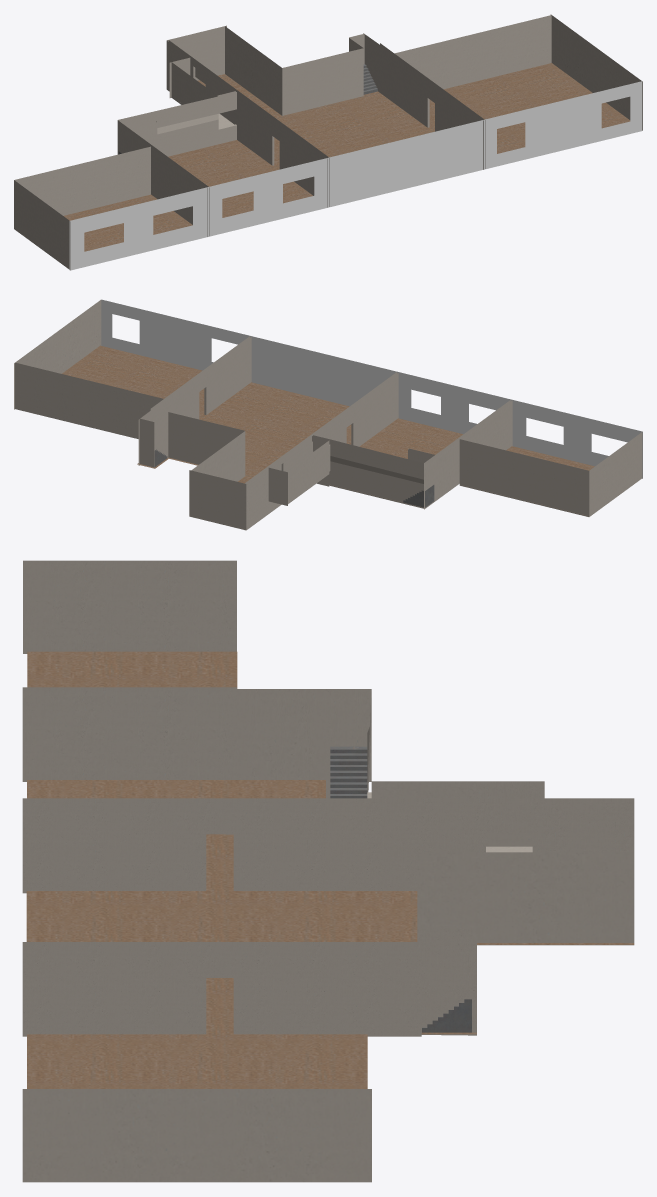
The model's file is Nivel_Casa 1.fbx.
3 renders of one model, top to bottom at view 1: azimuth 30°, elevation 25°; view 2: azimuth 150°, elevation 25°; view 3: azimuth 270°, elevation 25°, orthographic. The views are drawn at different scales.
Parts seen in each view (by area): view 1: base, Plane.011, base.001; view 2: base, Plane.011, base.001; view 3: base, base.001.
Part boxes in pixels (x1,y1,x2,y2): base: [14, 14, 642, 269]; Plane.011: [69, 81, 642, 270]; base.001: [64, 63, 630, 251]; base: [14, 300, 642, 530]; Plane.011: [101, 299, 642, 478]; base.001: [62, 345, 594, 514]; base: [22, 560, 634, 1182]; base.001: [26, 651, 634, 1088].
Bounding box in the file's own units: 10210 × 850 × 4986.
